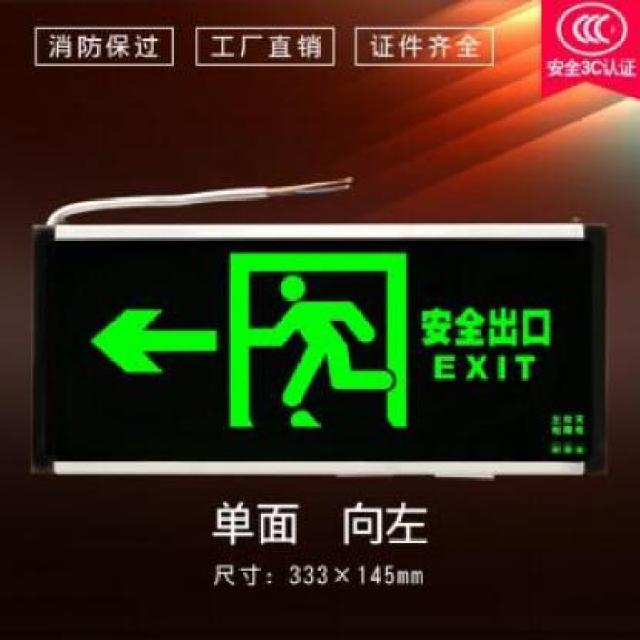exit_sign: (34, 201, 602, 497)
